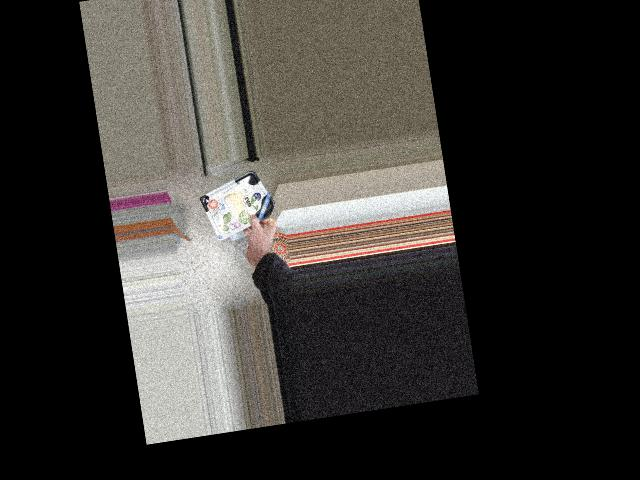cheese: (202, 175, 272, 231)
